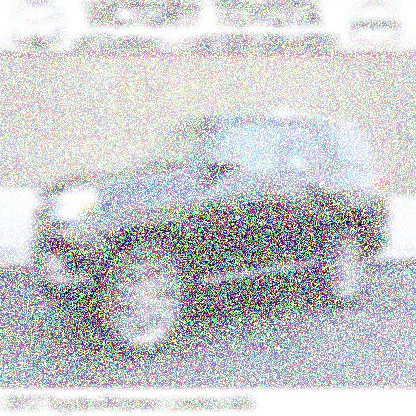Vehicle: (27, 105, 394, 357)
